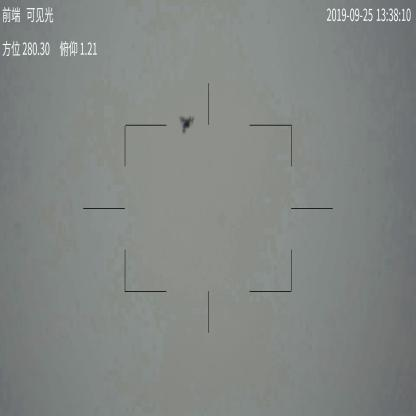uav: (180, 116, 196, 138)
